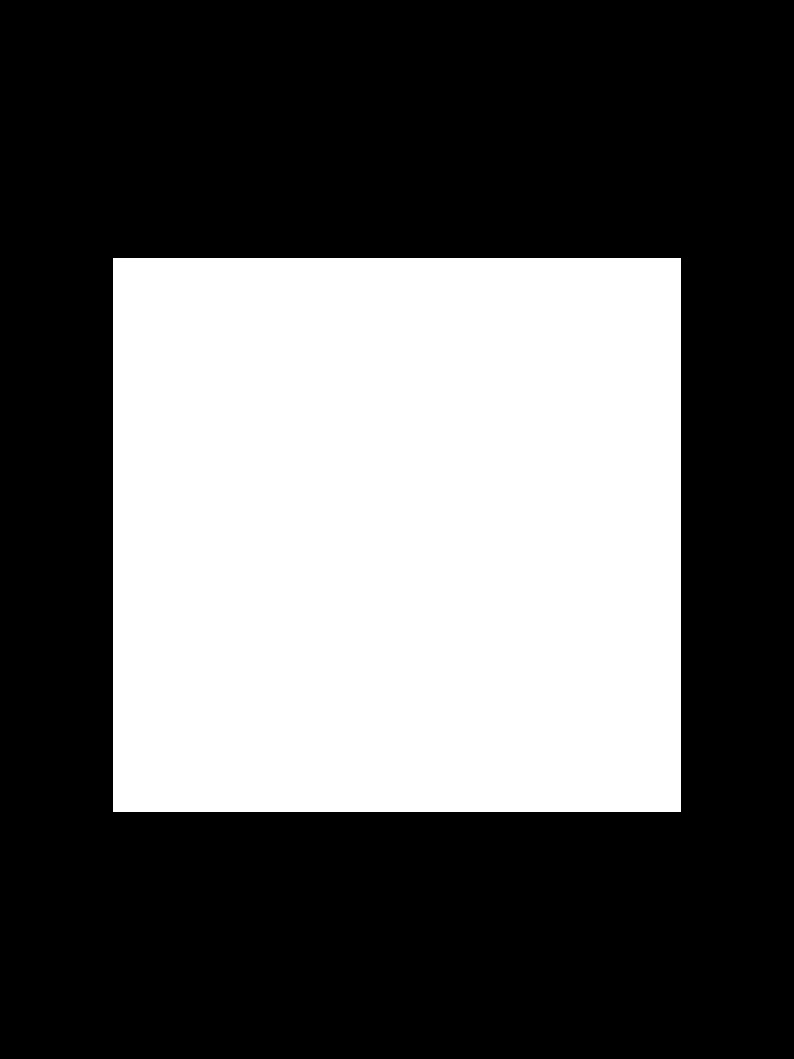table: (113, 258, 680, 811)
